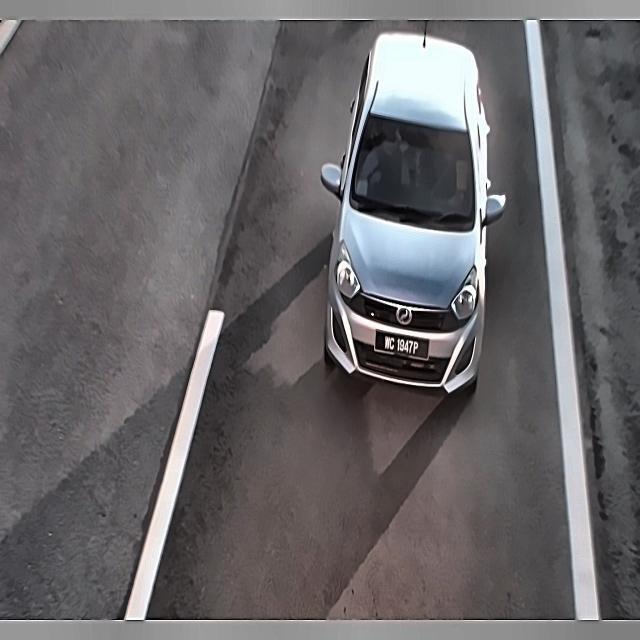car: (372, 327, 436, 364)
